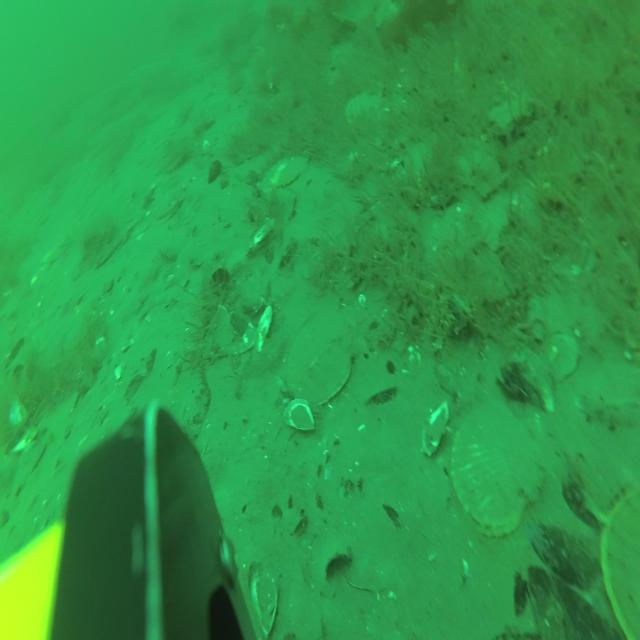scallop: (452, 398, 543, 536), (288, 307, 368, 409), (602, 479, 640, 640), (346, 92, 386, 132), (156, 185, 187, 224), (256, 157, 282, 194), (281, 152, 307, 188)
